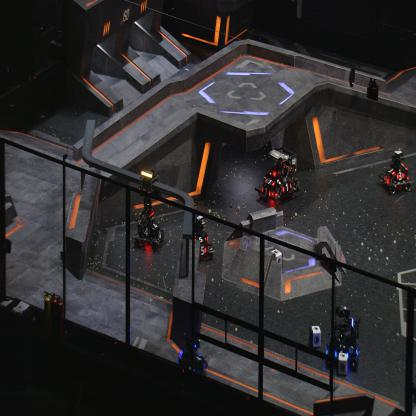car: (254, 146, 300, 206), (325, 302, 361, 370), (378, 147, 413, 196), (132, 203, 166, 250), (176, 332, 209, 378), (188, 214, 214, 260)
